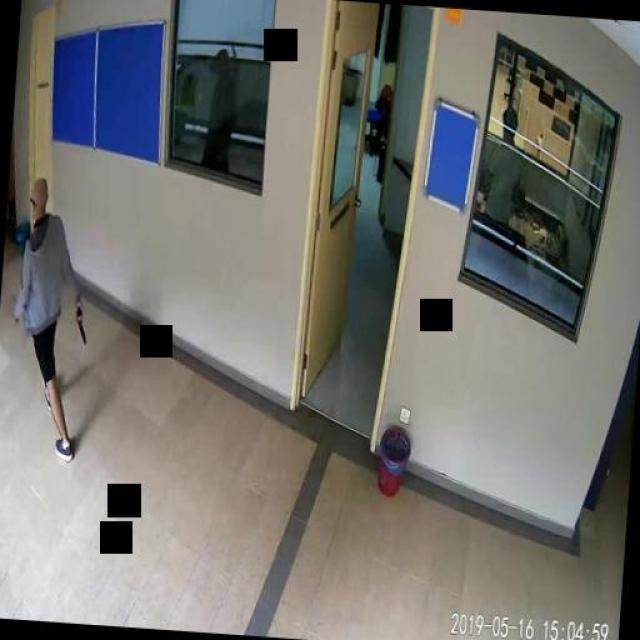gun: (71, 300, 89, 342)
